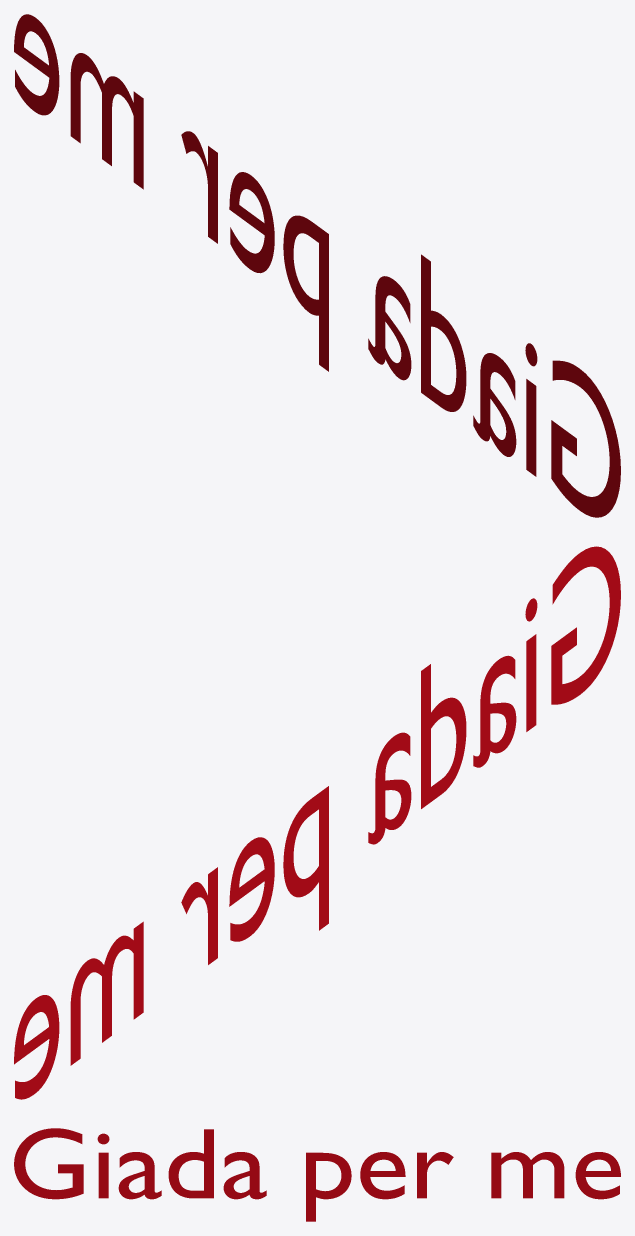
Rendered from testo.glb.
The picture shows the model from 3 angles, top to bottom: view 1: azimuth 30°, elevation 25°; view 2: azimuth 150°, elevation 25°; view 3: azimuth 270°, elevation 25°; orthographic projection. The views are drawn at different scales.
Parts seen in each view (by area): view 1: Text; view 2: Text; view 3: Text.
Part boxes in pixels (x1,y1,x2,y2): Text: (14, 14, 620, 517); Text: (14, 546, 620, 1099); Text: (14, 1128, 620, 1221).
Size of the model in its own units: 0 by 0.921 by 5.42.
